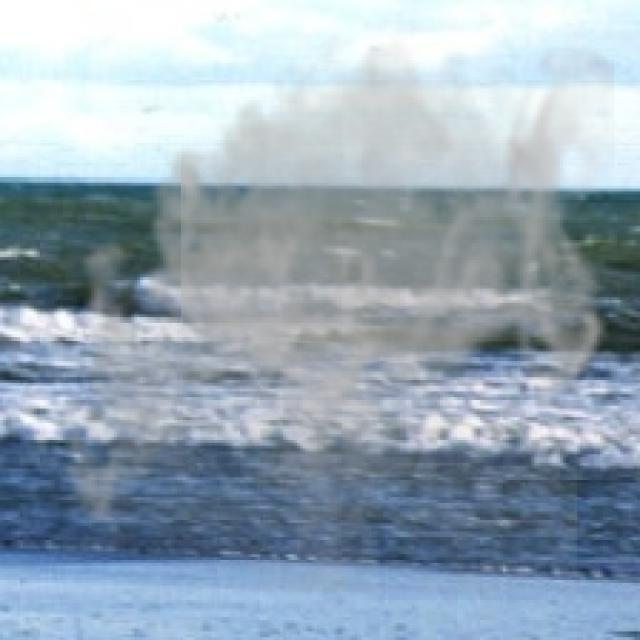smoke: (46, 23, 614, 591)
